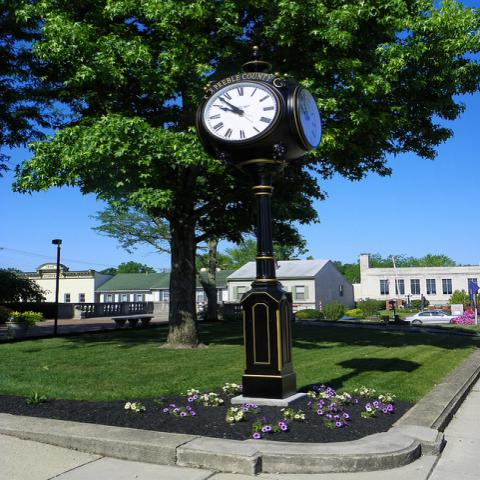car: (404, 310, 463, 324), (340, 316, 360, 320)
